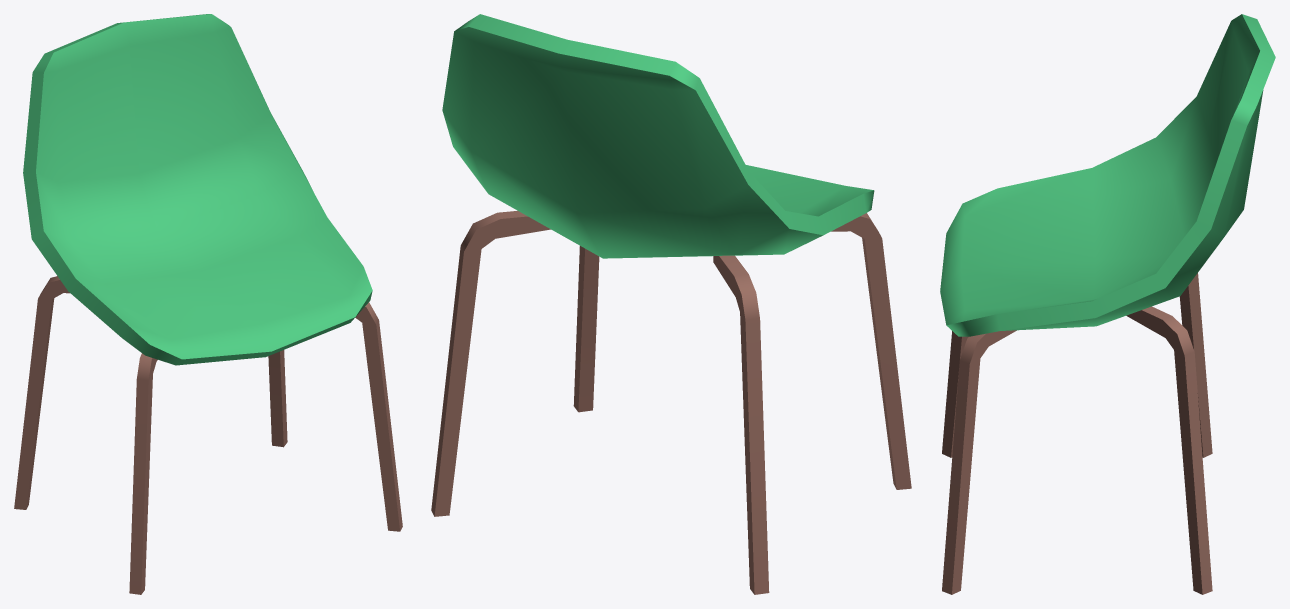
The model's file is kitchen_chair_01.glb.
3 renders of one model, left to right at view 1: azimuth 30°, elevation 25°; view 2: azimuth 150°, elevation 25°; view 3: azimuth 270°, elevation 25°, orthographic. The views are drawn at different scales.
Parts seen in each view (by area): view 1: kitchen_chair_001; view 2: kitchen_chair_001; view 3: kitchen_chair_001.
Boxes of the visible parts, x1,y1,x2,y2 form: kitchen_chair_001: (14,14,402,594); kitchen_chair_001: (431,14,911,594); kitchen_chair_001: (940,14,1275,594).
Size of the model in its own units: 0.8188 by 1.24 by 0.8007.
1 material, 1 textured.
